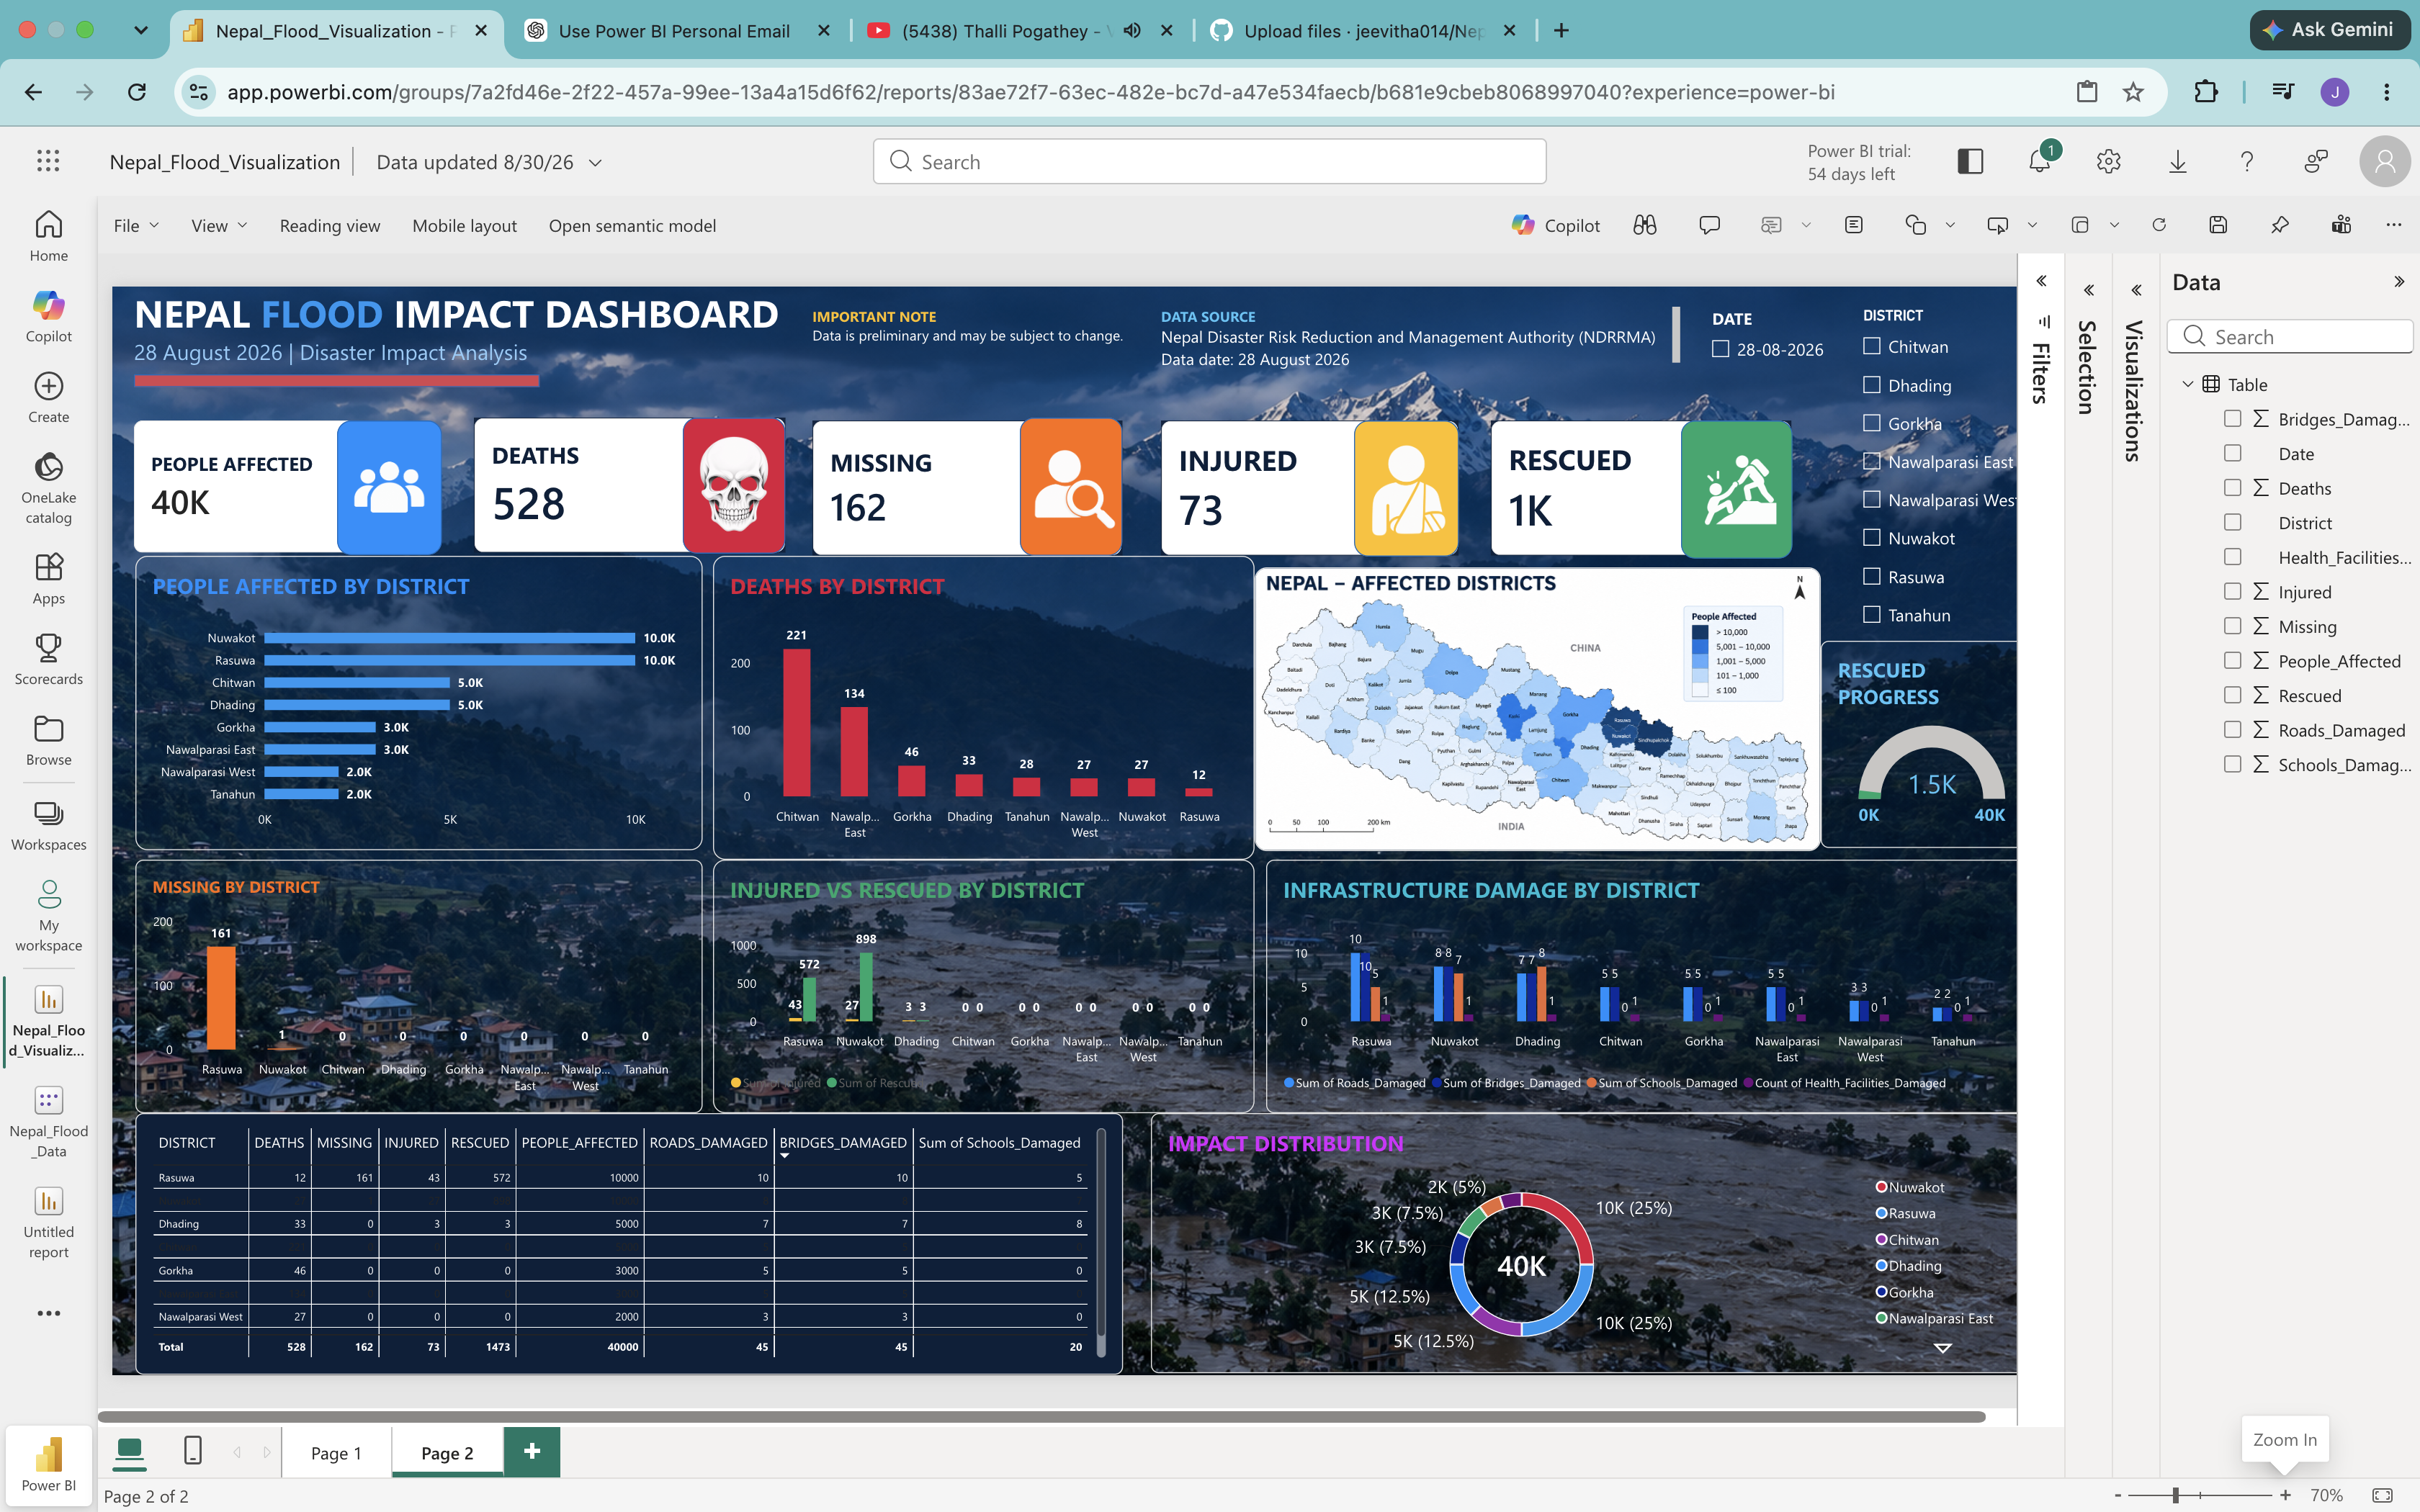

The dashboard page shown, as its layout file describes it:
{"tool":"powerbi","page":{"name":"Page 2","canvas":[1920,1080],"ordinal":1},"visuals":[{"type":"textbox","box":[22.1,0,1006.5,170.4],"z":0},{"type":"shape","box":[22.1,86.8,402.3,12.6],"z":1000},{"type":"cardVisual","fields":{"Data":["Sum(Table.Deaths)"]},"box":[358.3,130.5,309.2,134.1],"z":2000},{"type":"cardVisual","fields":{"Data":["Sum(Table.Missing)"]},"box":[694.6,132.7,307.6,134.1],"z":3000},{"type":"cardVisual","fields":{"Data":["Sum(Table.Injured)"]},"box":[1039.6,132.7,295,134.1],"z":4000},{"type":"cardVisual","fields":{"Data":["Sum(Table.Rescued)"]},"box":[1367,132.7,298.2,134.1],"z":5000},{"type":"clusteredBarChart","title":"PEOPLE AFFECTED BY DISTRICT","fields":{"Category":["Table.District"],"Y":["Sum(Table.People_Affected)"]},"box":[22.7,267.6,562.7,291.9],"z":6000},{"type":"clusteredColumnChart","title":"DEATHS BY DISTRICT","fields":{"Category":["Table.District"],"Y":["Sum(Table.Deaths)"]},"box":[595.1,267.6,536.8,301.6],"z":7000},{"type":"clusteredColumnChart","title":"INJURED VS RESCUED BY DISTRICT","fields":{"Category":["Table.District"],"Y":["Sum(Table.Injured)","Sum(Table.Rescued)"]},"box":[595.1,569.2,536.8,251.4],"z":8000},{"type":"clusteredColumnChart","title":"MISSING BY DISTRICT ","fields":{"Category":["Table.District"],"Y":["Sum(Table.Missing)"]},"box":[22.7,569.2,562.7,251.4],"z":9000},{"type":"donutChart","title":"IMPACT DISTRIBUTION","fields":{"Category":["Table.District"],"Y":["Sum(Table.People_Affected)"]},"box":[1029.7,820.5,867.6,257.8],"z":10000},{"type":"image","box":[1132.4,278,561.5,281.7],"z":11000},{"type":"tableEx","fields":{"Values":["Table.District","Sum(Table.Deaths)","Sum(Table.Missing)","Sum(Table.Injured)","Sum(Table.Rescued)","Sum(Table.People_Affected)","Sum(Table.Roads_Damaged)","Sum(Table.Bridges_Damaged)","Sum(Table.Schools_Damaged)"]},"box":[22.7,820.5,979.5,259.5],"z":12000},{"type":"slicer","fields":{"Values":["Table.District"]},"box":[1728.6,21.1,168.6,332.4],"z":13000},{"type":"textbox","box":[1039.7,20.4,515.2,66.7],"z":14000},{"type":"textbox","box":[695,20.4,333.6,53.7],"z":15000},{"type":"cardVisual","fields":{"Data":["Sum(Table.People_Affected)"]},"box":[22.1,132.7,294.7,133.6],"z":18000},{"type":"shape","box":[223.4,132.7,104,133.6],"z":19000},{"type":"image","box":[223.4,130.5,104.1,134.1],"z":20000},{"type":"shape","box":[566.3,130.5,101.8,134.9],"z":21000},{"type":"image","box":[566.3,130.5,101.8,132.7],"z":22000},{"type":"shape","box":[900.3,130.5,101.8,137.1],"z":23000},{"type":"image","box":[900.3,132.7,101.8,134.9],"z":24000},{"type":"shape","box":[1232.1,132.7,104,134.9],"z":25000},{"type":"image","box":[1232.1,132.7,104,134.9],"z":26000},{"type":"shape","box":[1555,132.7,110.6,137.1],"z":27000},{"type":"image","box":[1555,132.7,110.6,137.1],"z":28000},{"type":"clusteredColumnChart","title":"INFRASTRUCTURE DAMAGE BY DISTRICT","fields":{"Category":["Table.District"],"Y":["Sum(Table.Roads_Damaged)","Sum(Table.Bridges_Damaged)","Sum(Table.Schools_Damaged)","CountNonNull(Table.Health_Facilities_Damaged)"]},"box":[1144.9,569.2,752.4,251.4],"z":28001},{"type":"gauge","title":"RESCUED PROGRESS","fields":{"MaxValue":["Sum(Table.People_Affected)"],"Y":["Sum(Table.Rescued)"]},"box":[1693.9,352.1,220.5,205.7],"z":28002},{"type":"slicer","fields":{"Values":["Table.Date"]},"box":[1579,20.4,150.1,59.3],"z":28003}]}

Visuals, with their boxes on the page's 1920x1080 design canvas (x1, y1, x2, y2). These are canvas units, not pixel positions in the 2420x1512 screenshot, which may show the page scaled, cropped or inside an application window:
textbox: [22, 0, 1029, 170]
shape: [22, 87, 424, 99]
cardVisual - Sum(Table.Deaths): [358, 130, 668, 265]
cardVisual - Sum(Table.Missing): [695, 133, 1002, 267]
cardVisual - Sum(Table.Injured): [1040, 133, 1335, 267]
cardVisual - Sum(Table.Rescued): [1367, 133, 1665, 267]
"PEOPLE AFFECTED BY DISTRICT" clusteredBarChart: [23, 268, 585, 560]
"DEATHS BY DISTRICT" clusteredColumnChart: [595, 268, 1132, 569]
"INJURED VS RESCUED BY DISTRICT" clusteredColumnChart: [595, 569, 1132, 821]
"MISSING BY DISTRICT " clusteredColumnChart: [23, 569, 585, 821]
"IMPACT DISTRIBUTION" donutChart: [1030, 820, 1897, 1078]
image: [1132, 278, 1694, 560]
tableEx - Table.District x Sum(Table.Deaths): [23, 820, 1002, 1080]
slicer - Table.District: [1729, 21, 1897, 354]
textbox: [1040, 20, 1555, 87]
textbox: [695, 20, 1029, 74]
cardVisual - Sum(Table.People_Affected): [22, 133, 317, 266]
shape: [223, 133, 327, 266]
image: [223, 130, 328, 265]
shape: [566, 130, 668, 265]
image: [566, 130, 668, 263]
shape: [900, 130, 1002, 268]
image: [900, 133, 1002, 268]
shape: [1232, 133, 1336, 268]
image: [1232, 133, 1336, 268]
shape: [1555, 133, 1666, 270]
image: [1555, 133, 1666, 270]
"INFRASTRUCTURE DAMAGE BY DISTRICT" clusteredColumnChart: [1145, 569, 1897, 821]
"RESCUED PROGRESS" gauge: [1694, 352, 1914, 558]
slicer - Table.Date: [1579, 20, 1729, 80]
